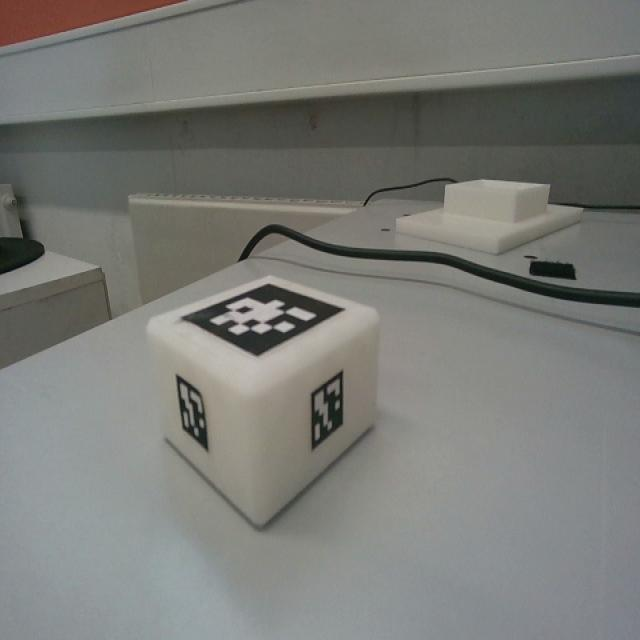Cube: (146, 274, 381, 534)
